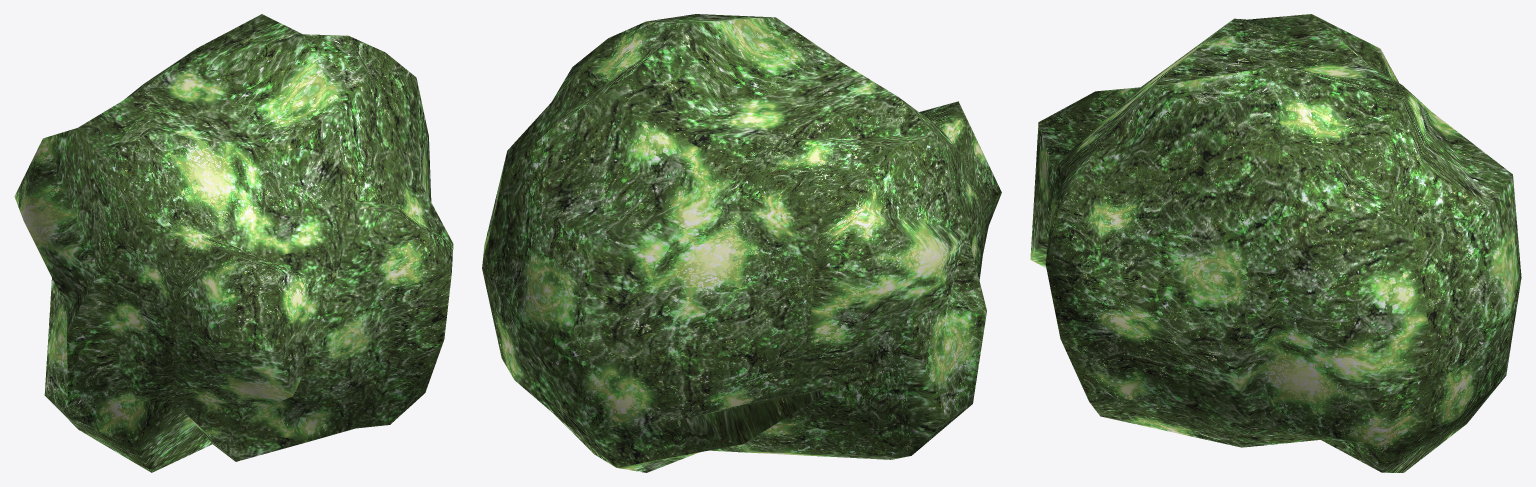
The model's file is asteroid_acid_small_s01_l1.fbx.
The picture shows the model from 3 angles, left to right: view 1: azimuth 30°, elevation 25°; view 2: azimuth 150°, elevation 25°; view 3: azimuth 270°, elevation 25°; orthographic projection. The views are drawn at different scales.
Visible parts, largest first — view 1: mesh_node; view 2: mesh_node; view 3: mesh_node.
Boxes of the visible parts, x1,y1,x2,y2 form: mesh_node: [14, 14, 453, 472]; mesh_node: [482, 14, 1001, 472]; mesh_node: [1030, 14, 1521, 472].
Size of the model in its own units: 26.46 by 23.92 by 26.23.
